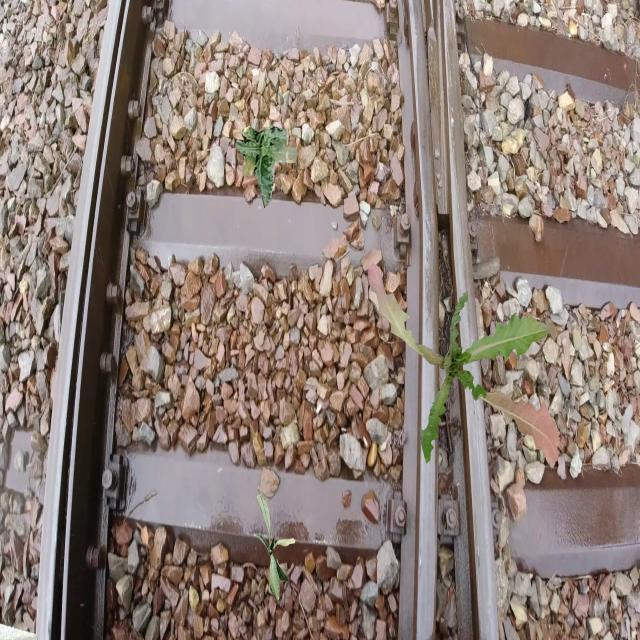Plant: (367, 263, 560, 466), (235, 126, 298, 209), (256, 492, 296, 602)
